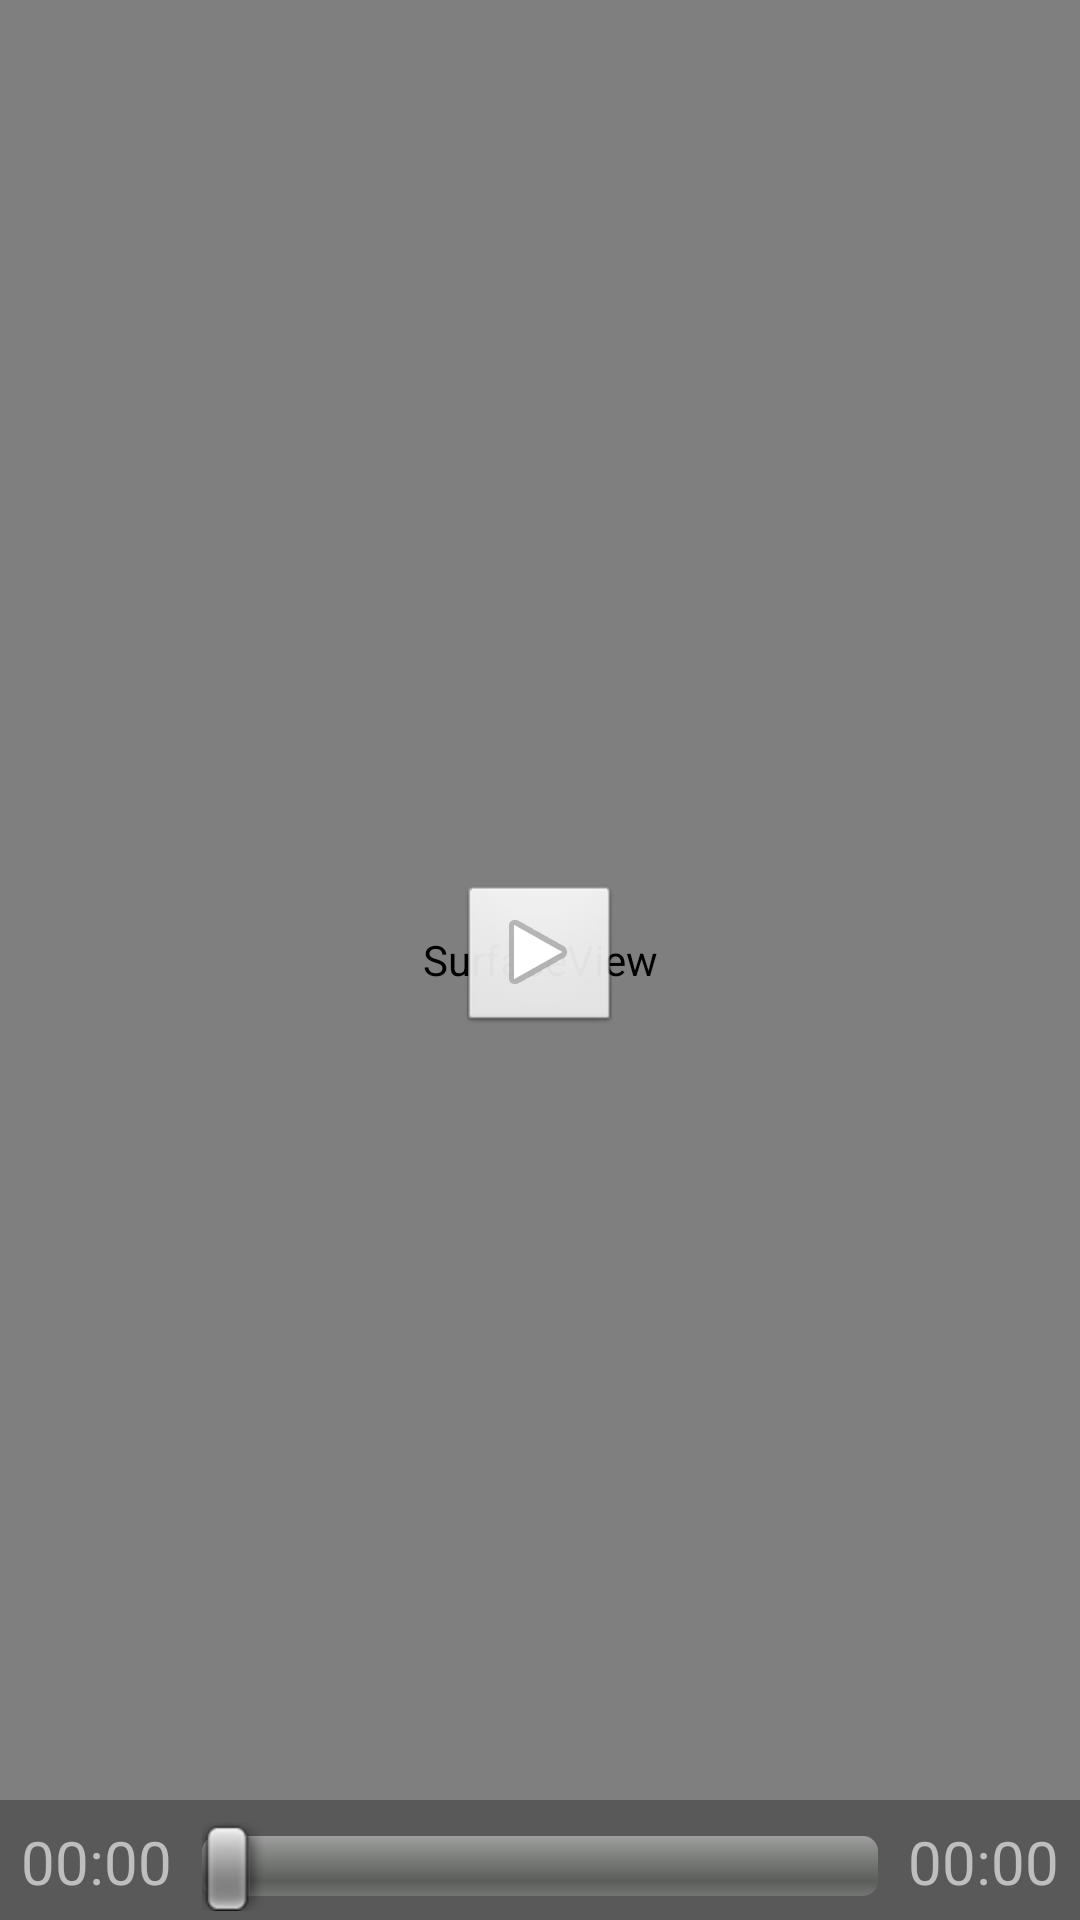

Named icons in this screenshot (1080x1920) and their centers, point (x, y):
Play Button: point (544, 954)
